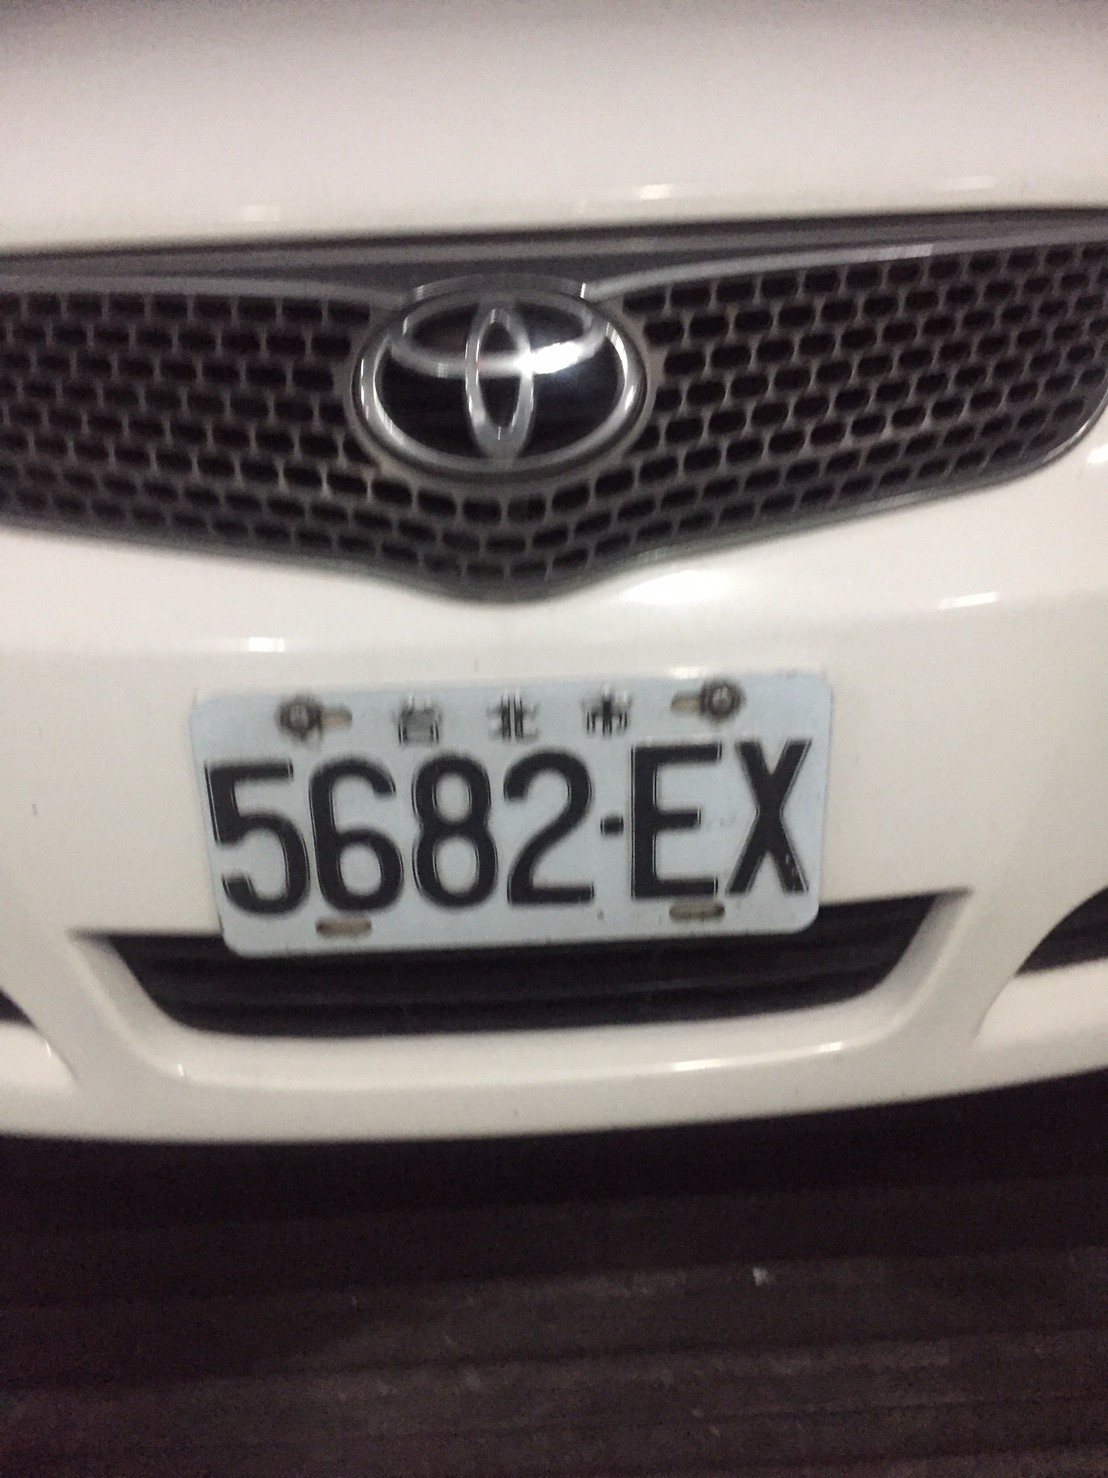LP: (196, 681, 822, 968)
